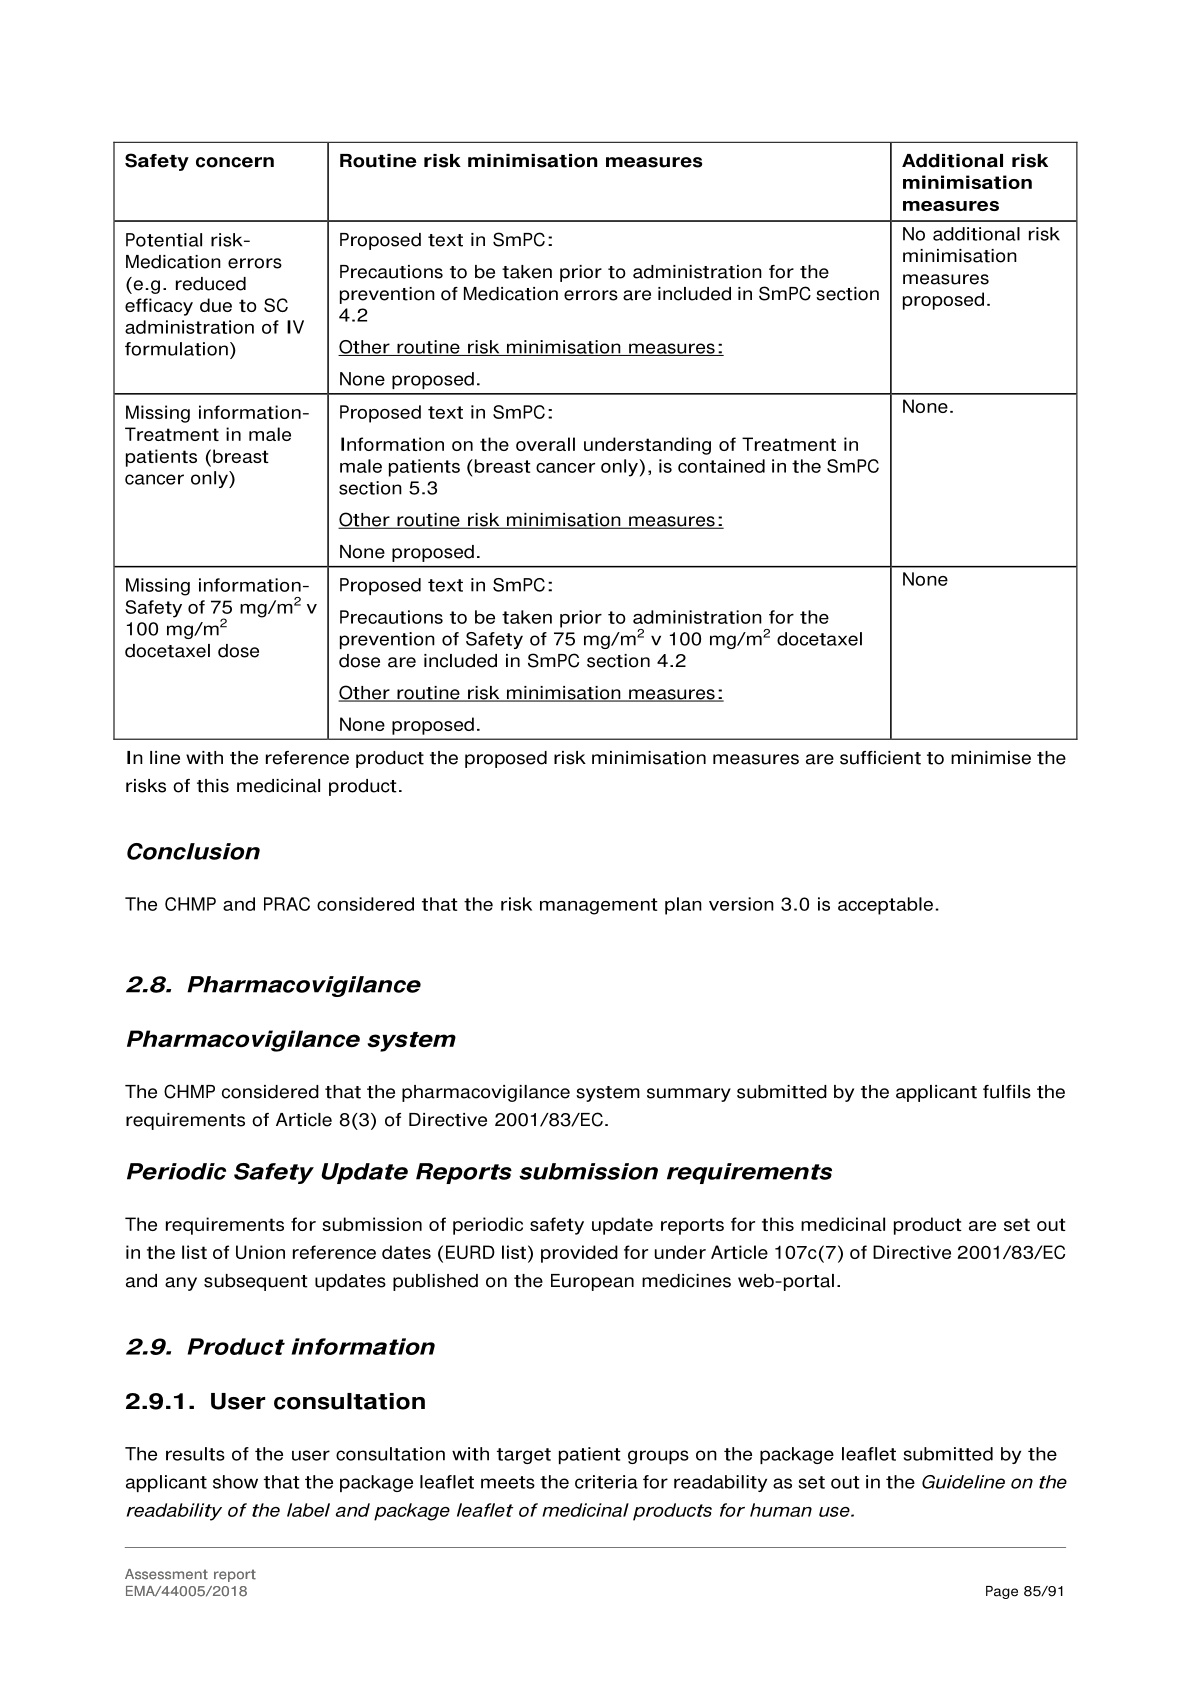full_lined: (112, 141, 1079, 741)
